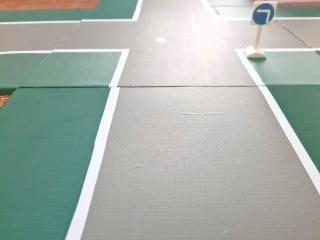left: (250, 1, 278, 26)
